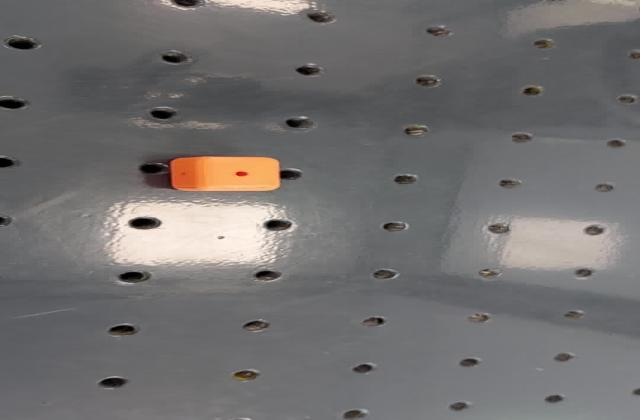cube: (158, 154, 290, 194)
